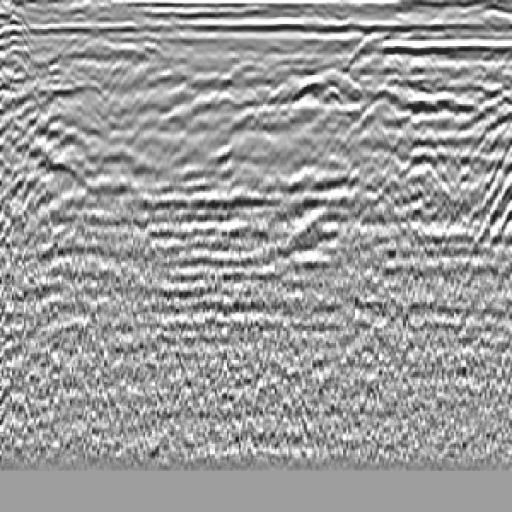metalic: (269, 59, 371, 121)
